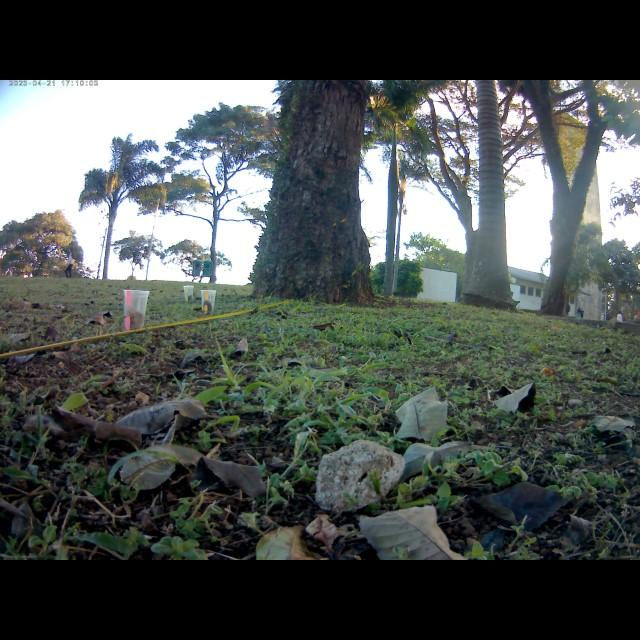arvore: (251, 83, 379, 307)
